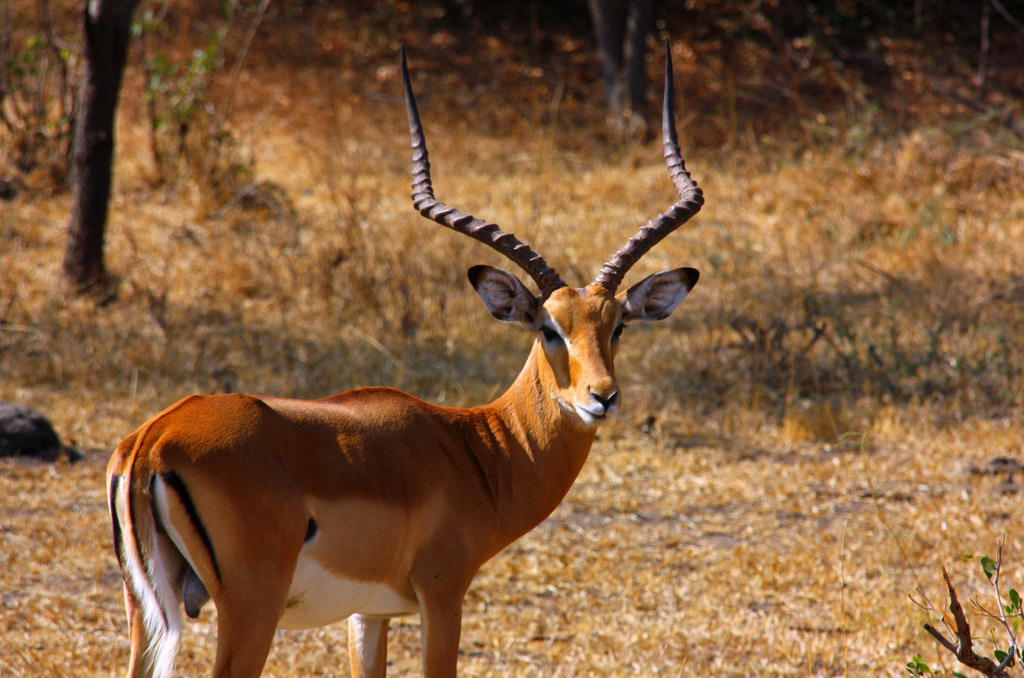Tree: (54, 0, 144, 308), (585, 0, 656, 150)
